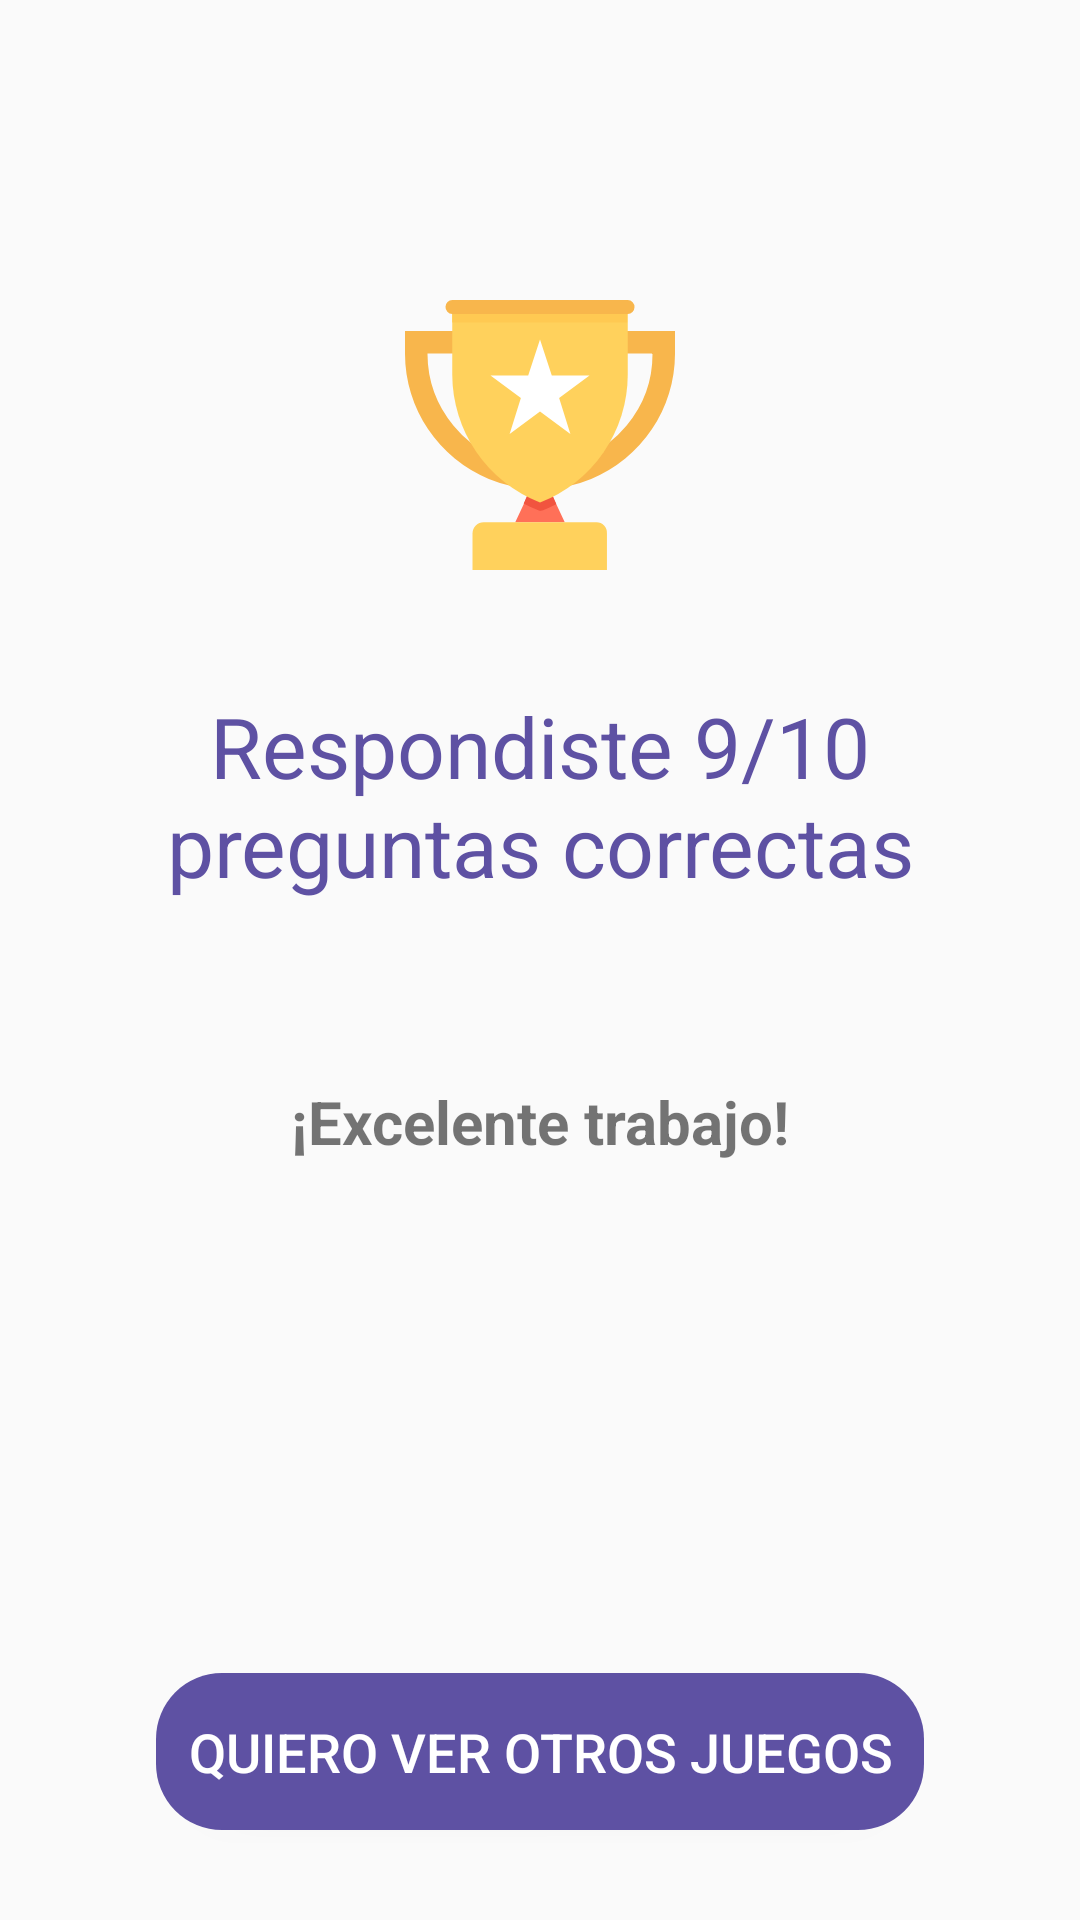

Icons on this 1080 x 1920 Android screen, each with its box as (x1, y1, x2, y2):
gane: (405, 300, 675, 570)
